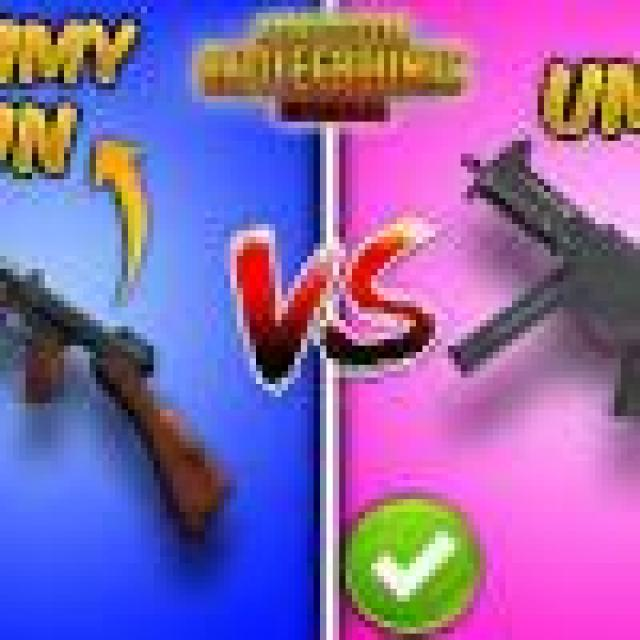Gun: (415, 133, 640, 460)
